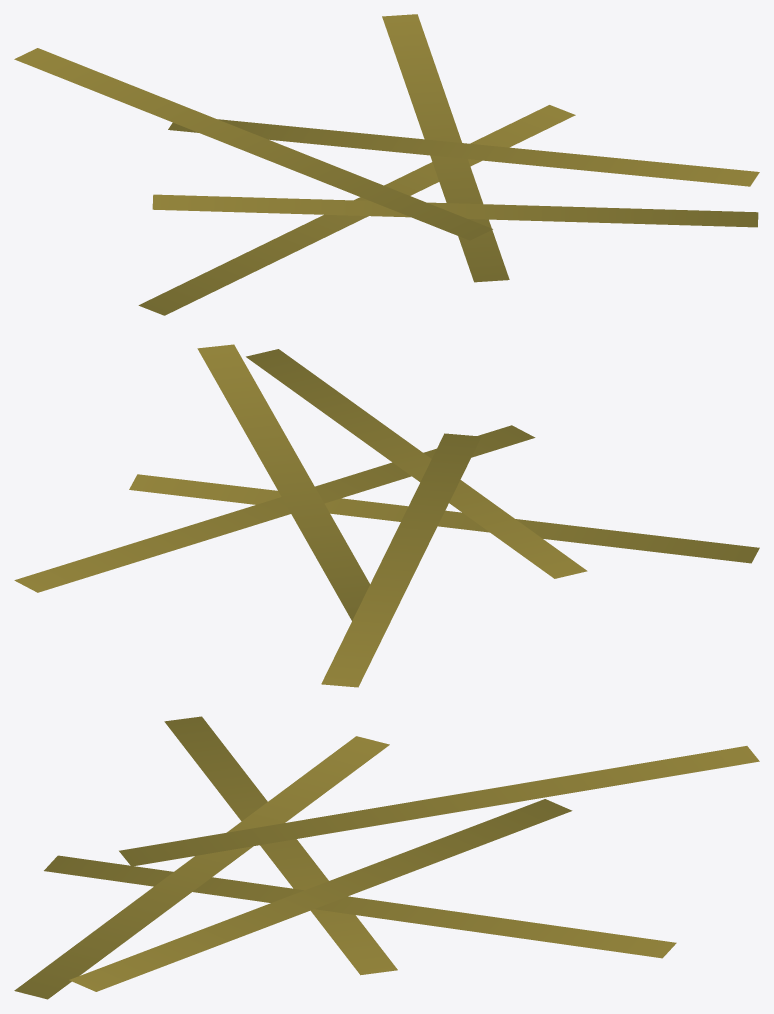
The model's file is corn_stalk_cut.glb.
The picture shows the model from 3 angles, top to bottom: view 1: azimuth 30°, elevation 25°; view 2: azimuth 150°, elevation 25°; view 3: azimuth 270°, elevation 25°; orthographic projection. The views are drawn at different scales.
Visible parts, largest first — view 1: Cut; view 2: Cut; view 3: Cut.
Part boxes in pixels (x1,y1,x2,y2): Cut: (14,14,759,315); Cut: (14,344,759,687); Cut: (14,716,759,999).
Size of the model in its own units: 0.9192 by 0.052 by 0.9435.
